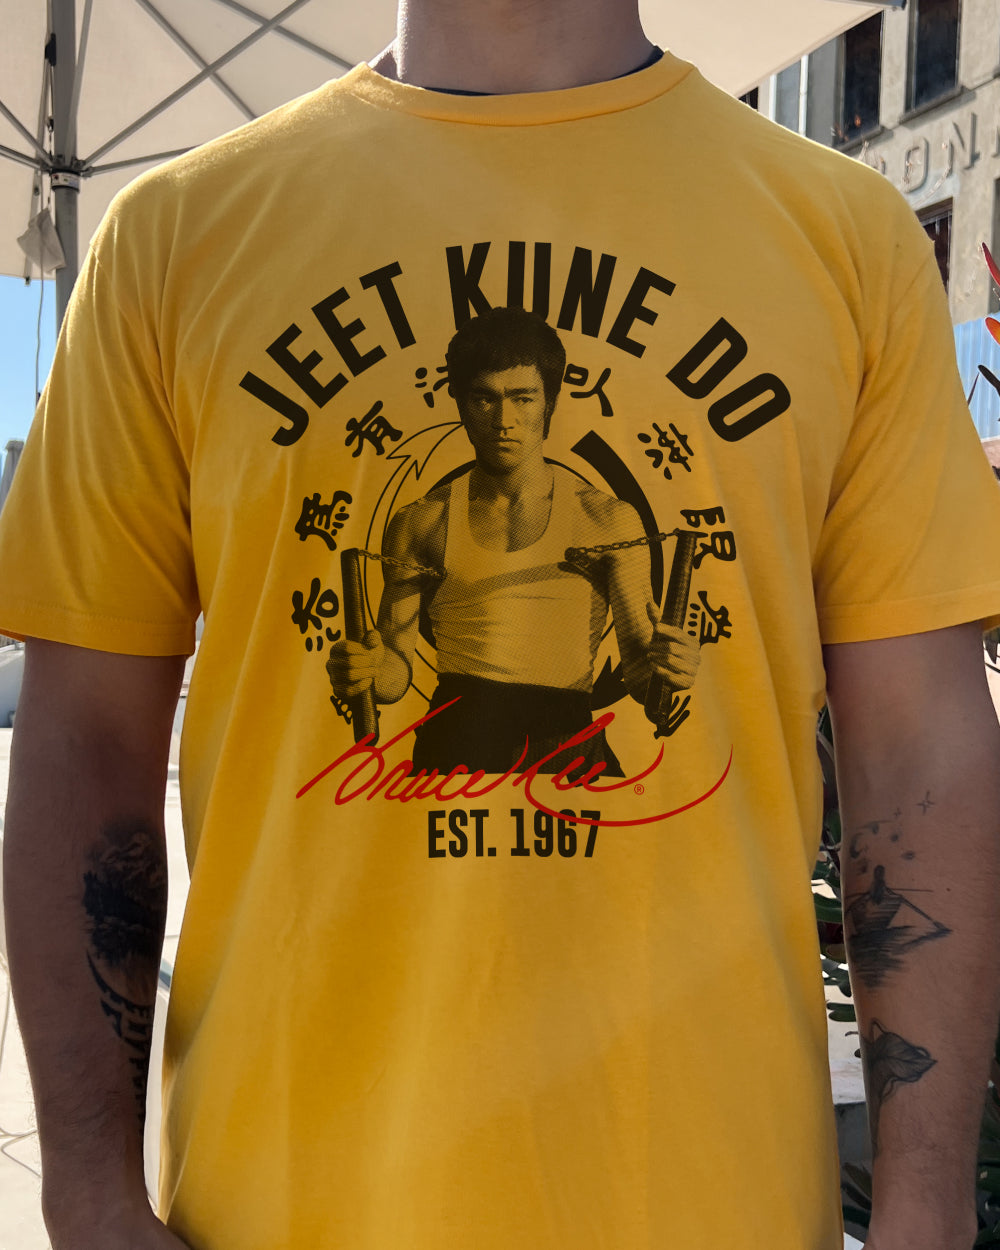design: (230, 233, 798, 867)
